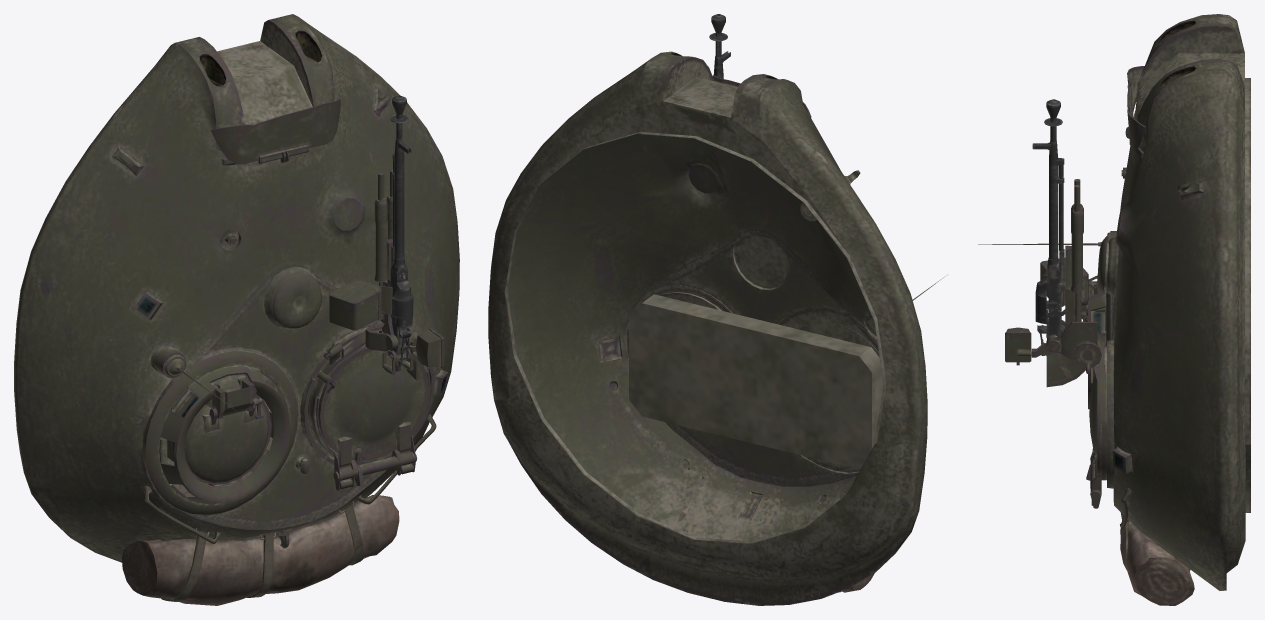
Rendered from Turret_01.glb.
3 renders of one model, left to right at view 1: azimuth 30°, elevation 25°; view 2: azimuth 150°, elevation 25°; view 3: azimuth 270°, elevation 25°, orthographic. The views are drawn at different scales.
Visible parts, largest first — view 1: set_0_group_0; view 2: set_0_group_0; view 3: set_0_group_0.
Boxes of the visible parts, x1,y1,x2,y2 form: set_0_group_0: (14,14,459,605); set_0_group_0: (488,14,945,605); set_0_group_0: (978,14,1250,605).
Bounding box in the file's own units: 2.73 × 3.2 × 1.49.
1 material, 1 textured.
